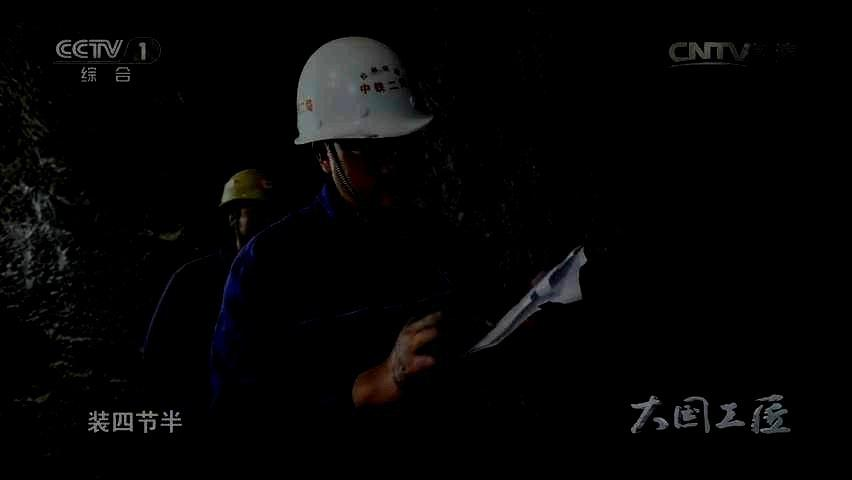helmet: (293, 36, 434, 207), (219, 168, 280, 237)
